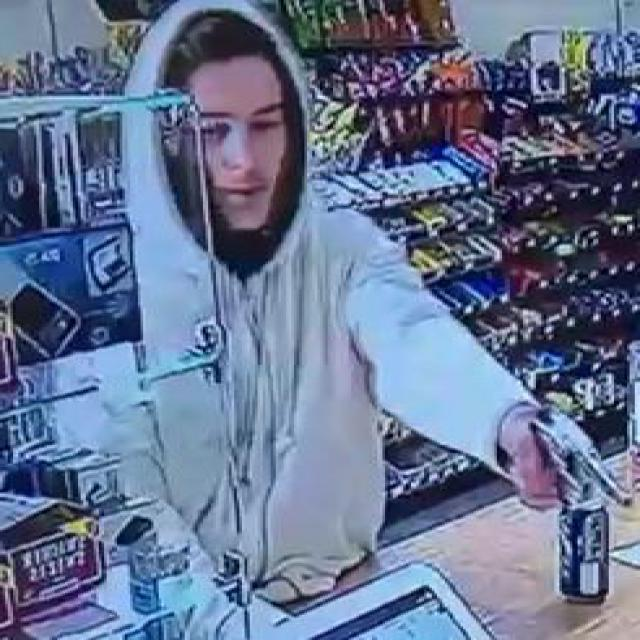Gun: (510, 406, 638, 512)
